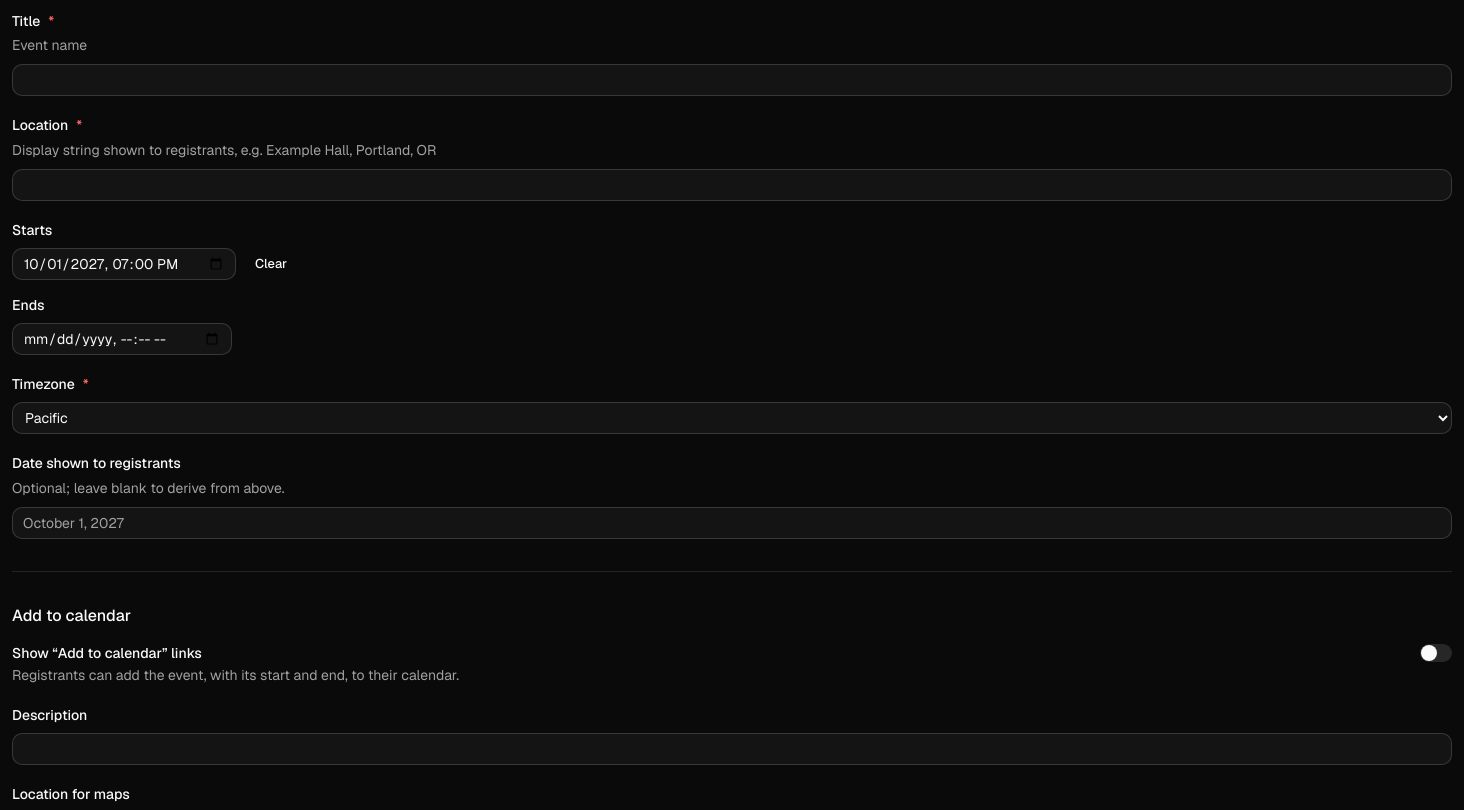
Test: EventForm › start and end › clear with their Clear buttons, which only show while there's a time
Click the button with aria-label "Clear Starts": point(271, 264) [244,250,298,278]
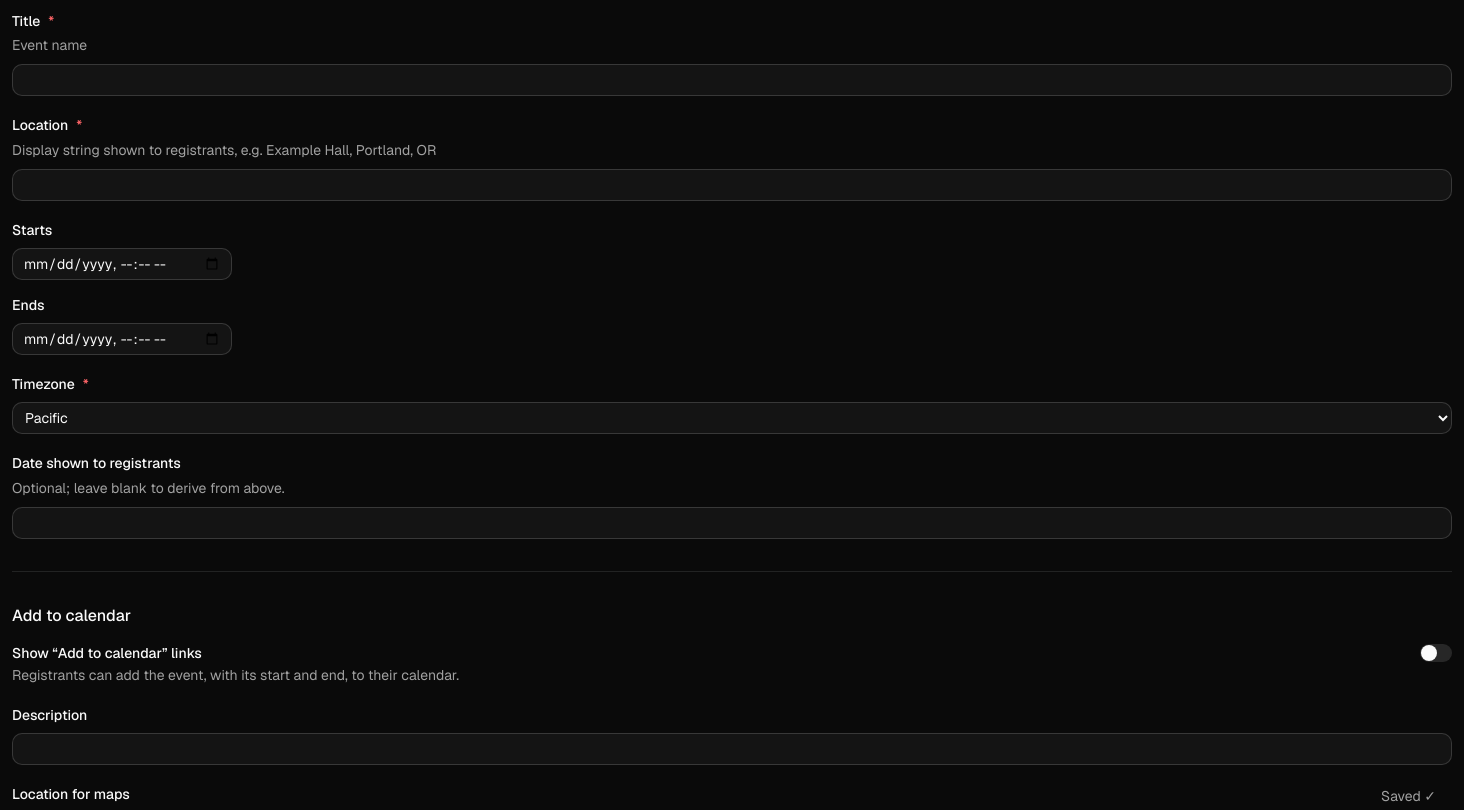
Expected: the field with id "event-start" is empty, [12,248,232,280]
